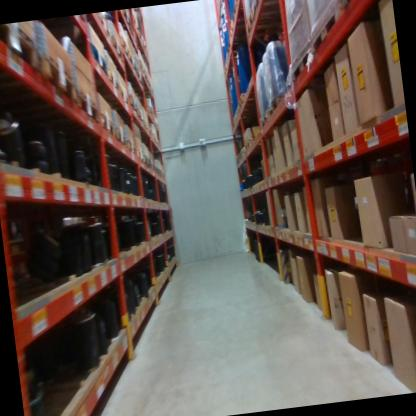pallet: (0, 20, 116, 141), (41, 46, 83, 113), (304, 0, 350, 60), (242, 6, 287, 40), (74, 39, 108, 79), (287, 44, 317, 87), (224, 14, 259, 47), (76, 84, 100, 125), (266, 91, 294, 125), (91, 66, 120, 97), (88, 12, 112, 41), (248, 0, 284, 19), (228, 0, 254, 26), (110, 35, 126, 67), (106, 91, 131, 110), (237, 87, 256, 108), (335, 0, 378, 9), (257, 110, 272, 135), (234, 104, 260, 118), (243, 137, 263, 155)
